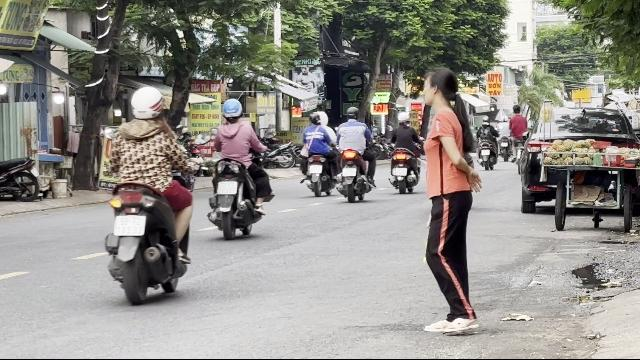helmet: (128, 85, 166, 121), (220, 98, 243, 122)
licenseplate: (114, 214, 146, 236), (218, 182, 236, 195)
motorcyclist: (100, 84, 196, 302), (206, 98, 272, 238)
